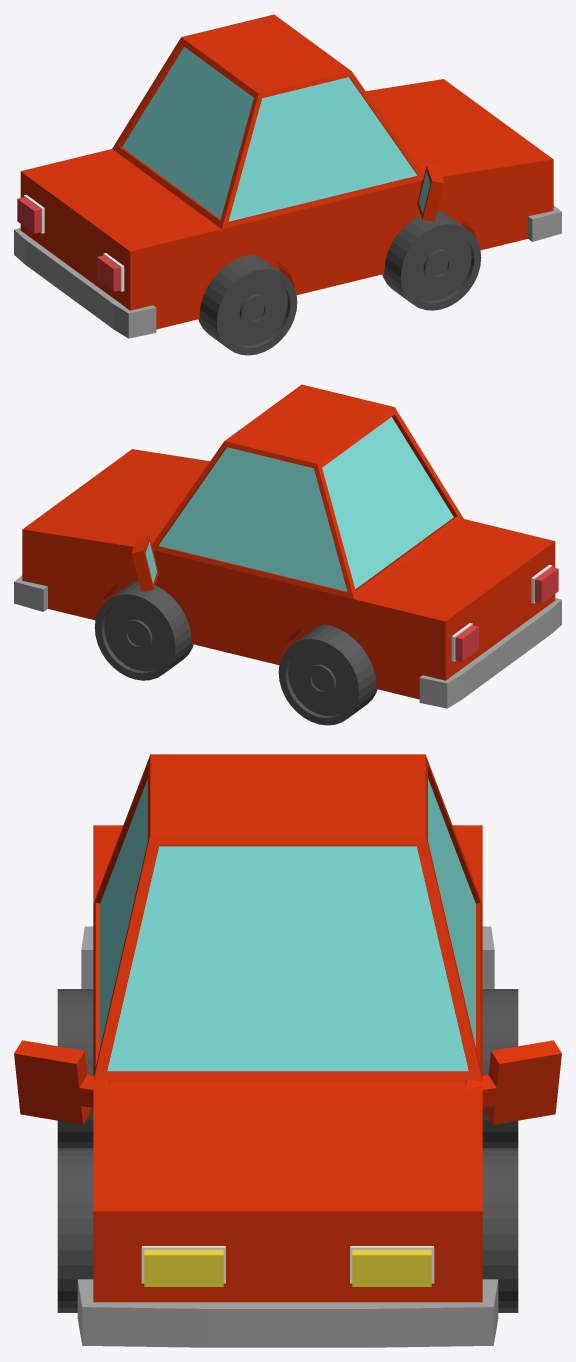
The model's file is 250513 Red Car_01.fbx.
The picture shows the model from 3 angles, top to bottom: view 1: azimuth 30°, elevation 25°; view 2: azimuth 150°, elevation 25°; view 3: azimuth 270°, elevation 25°; orthographic projection. The views are drawn at different scales.
Visible parts, largest first — view 1: Cube.004; view 2: Cube.004; view 3: Cube.004.
Part boxes in pixels (left/top/right/bottom): Cube.004: left=14, top=14, right=561, bottom=355; Cube.004: left=14, top=384, right=561, bottom=725; Cube.004: left=14, top=754, right=561, bottom=1347.
Bounding box in the file's own units: 1103 × 557 × 664.
